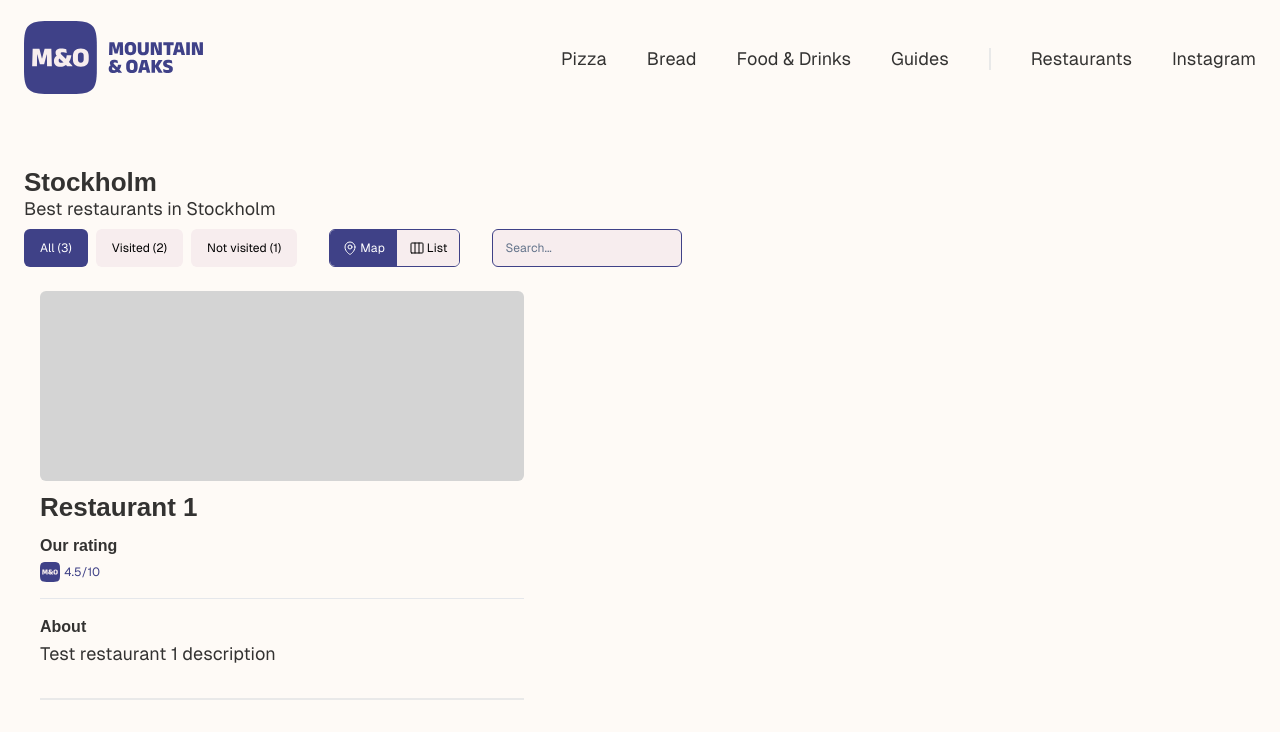
RestaurantCity › filters restaurants based on visited status
Click the button "Visited (2)" at [139, 248], box [96, 229, 183, 267]
(page scrolled)
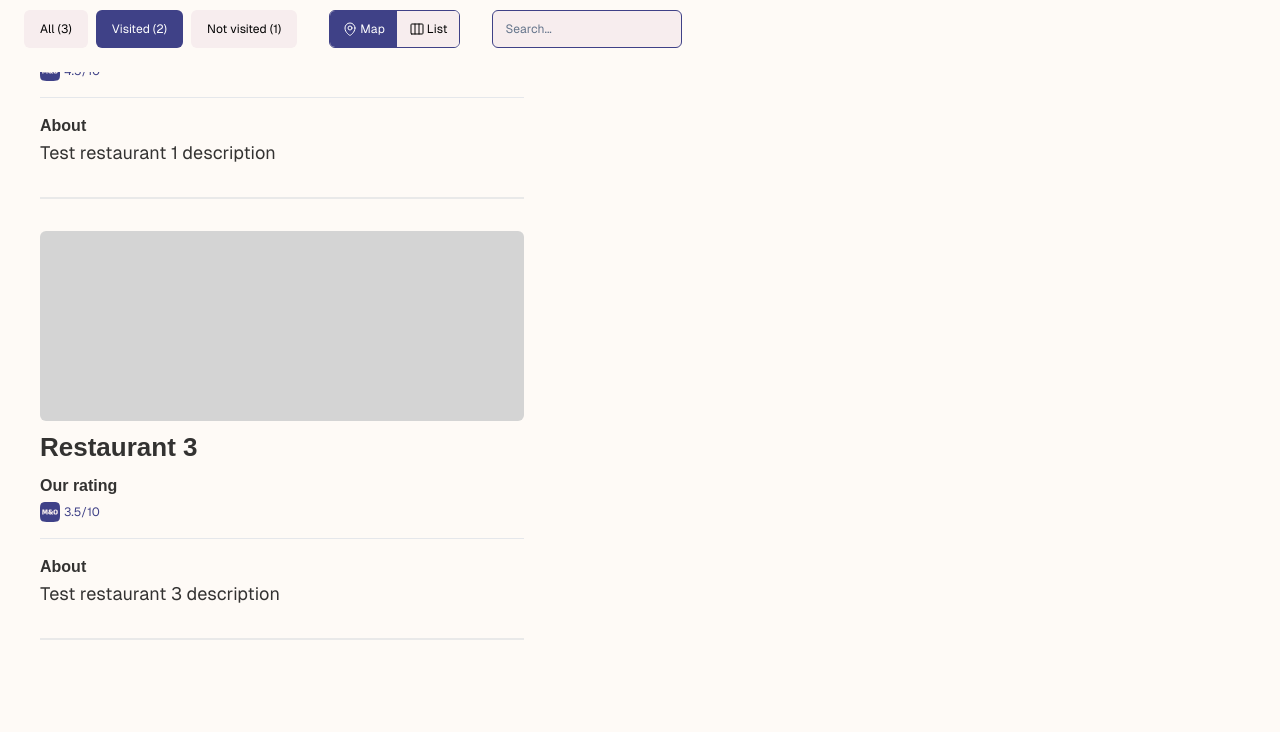
Expected: the heading "Restaurant 3" is shown, [40, 432, 198, 462]
